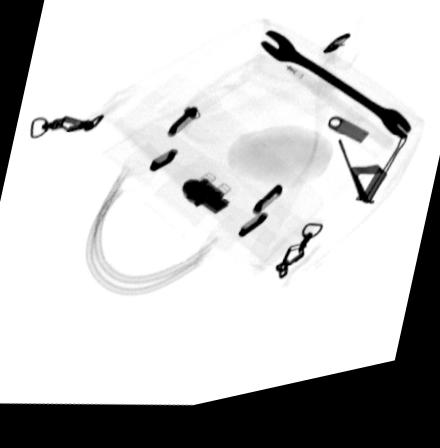Wrench: (259, 41, 411, 158)
